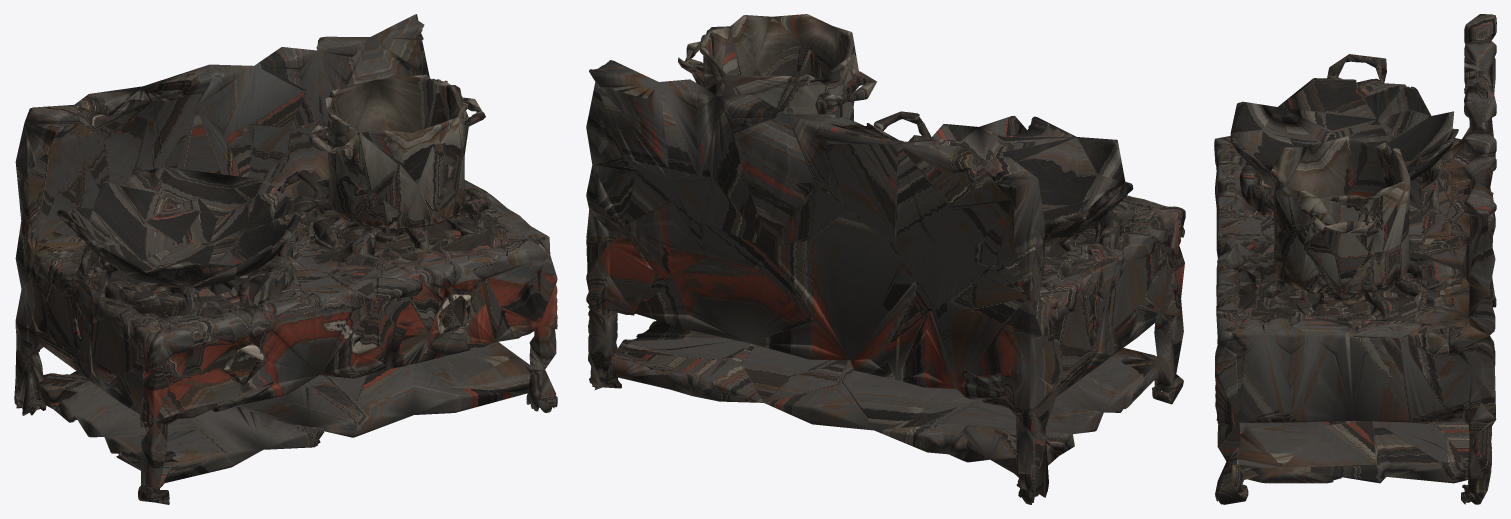
File: StoveBase.glb
3 renders of one model, left to right at view 1: azimuth 30°, elevation 25°; view 2: azimuth 150°, elevation 25°; view 3: azimuth 270°, elevation 25°, orthographic. The views are drawn at different scales.
Parts seen in each view (by area): view 1: StoveBase; view 2: StoveBase; view 3: StoveBase.
Boxes of the visible parts, x1,y1,x2,y2 form: StoveBase: (14, 14, 557, 504); StoveBase: (586, 14, 1185, 504); StoveBase: (1214, 14, 1496, 504).
Size of the model in its own units: 1.89 by 1.28 by 1.09.
1 material, 1 textured.
